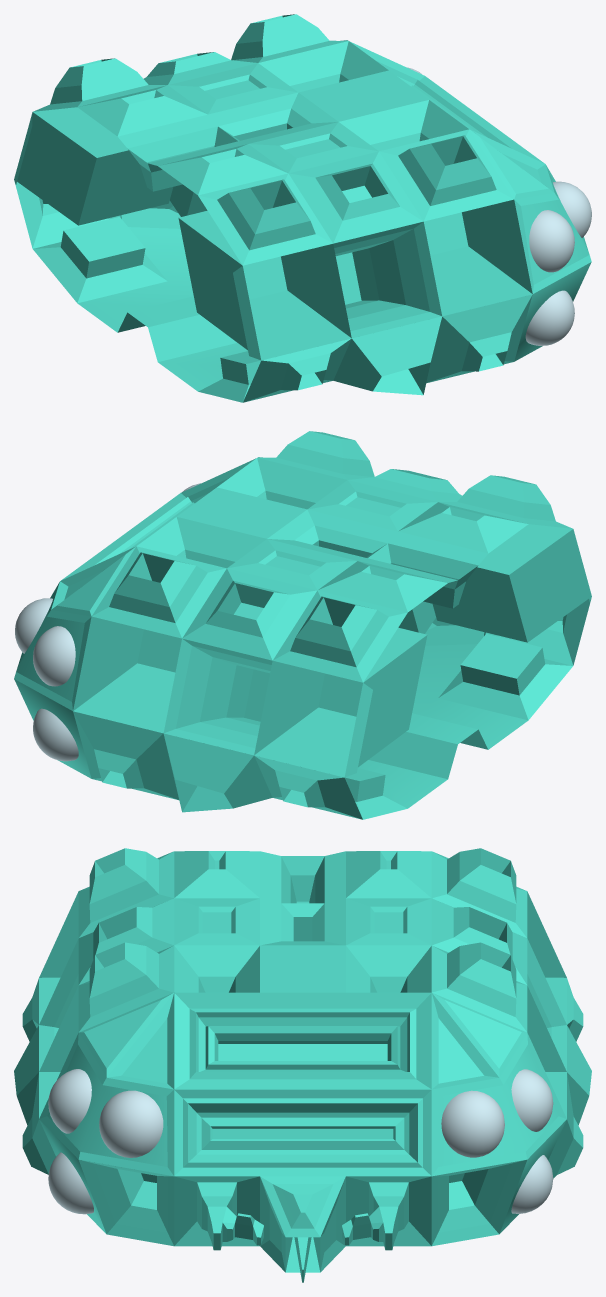
Rendered from CheapShip.fbx.
The picture shows the model from 3 angles, top to bottom: view 1: azimuth 30°, elevation 25°; view 2: azimuth 150°, elevation 25°; view 3: azimuth 270°, elevation 25°; orthographic projection. The views are drawn at different scales.
Parts seen in each view (by area): view 1: BODY, Sphere061, Sphere064, Sphere065; view 2: BODY, Sphere062, Sphere063, Sphere066; view 3: BODY, Sphere065, Sphere066, Sphere061, Sphere062, Sphere064, Sphere063.
Boxes of the visible parts, left/top/right/bottom form: BODY: left=14, top=14, right=591, bottom=402; Sphere061: left=529, top=210, right=574, bottom=272; Sphere064: left=525, top=290, right=574, bottom=345; Sphere065: left=553, top=181, right=591, bottom=237; BODY: left=14, top=431, right=591, bottom=819; Sphere062: left=33, top=626, right=75, bottom=686; Sphere063: left=33, top=708, right=78, bottom=761; Sphere066: left=15, top=598, right=52, bottom=653; BODY: left=14, top=848, right=591, bottom=1282; Sphere065: left=99, top=1090, right=163, bottom=1157; Sphere066: left=441, top=1090, right=504, bottom=1157; Sphere061: left=48, top=1069, right=91, bottom=1133; Sphere062: left=511, top=1069, right=553, bottom=1131; Sphere064: left=48, top=1152, right=93, bottom=1214; Sphere063: left=511, top=1155, right=553, bottom=1213.
Size of the model in its own units: 732 by 380 by 781.
